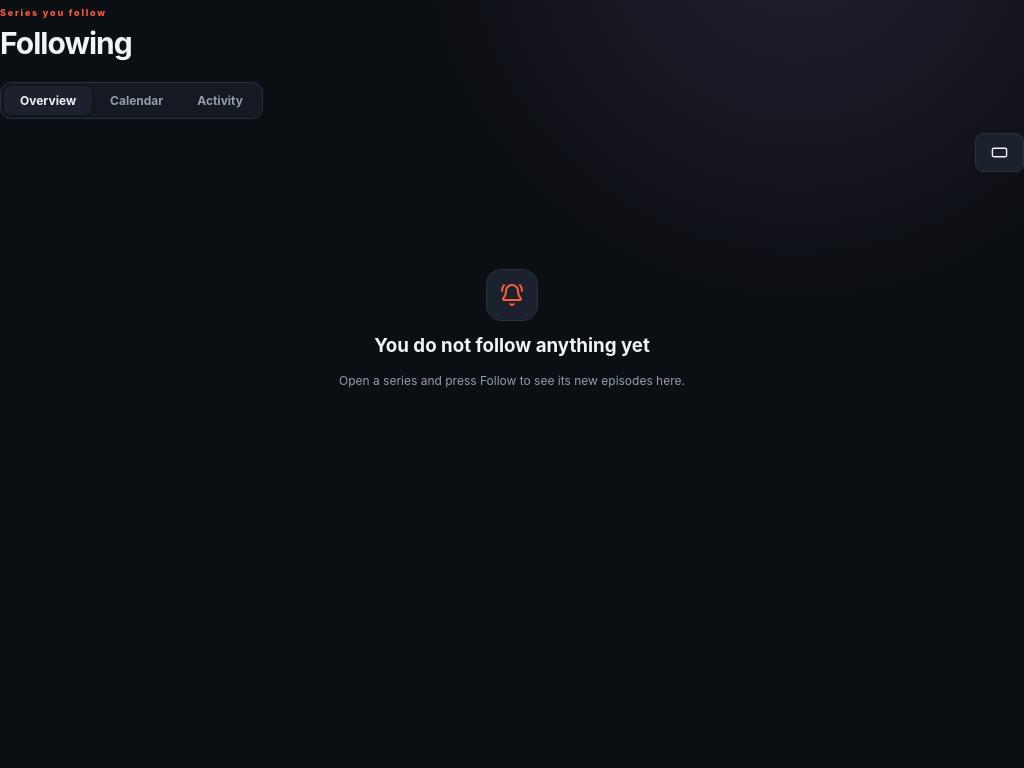
Test: FollowingPage › puts an episode on the day its release date names, east of UTC as well
Click the tab "Calendar" at (137, 100), box [94,86,179,115]
(page scrolled)
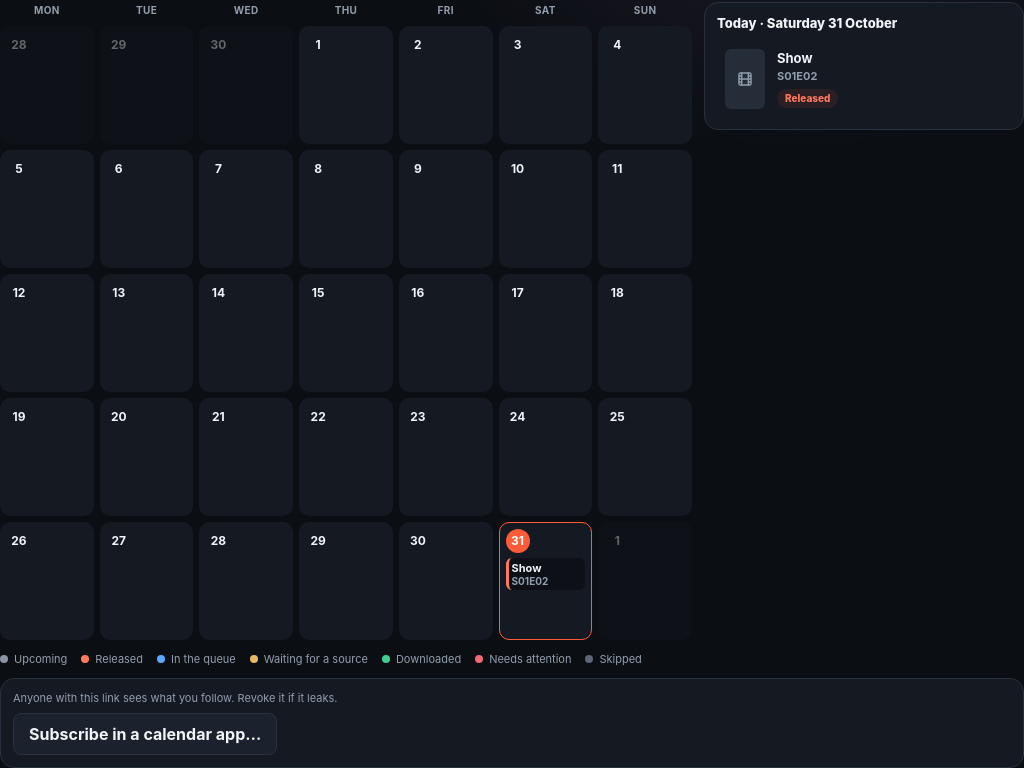
Expected: the button with class "following-event" reads "Show S01E02", [506,558,585,590]
